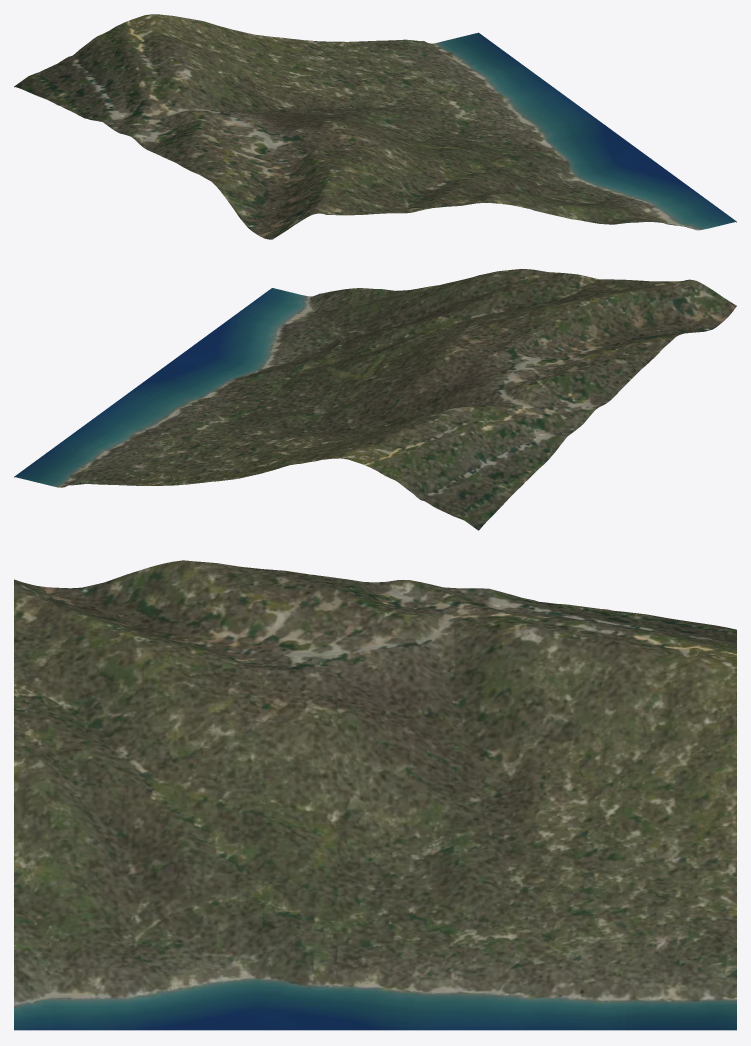
3 renders of one model, top to bottom at view 1: azimuth 30°, elevation 25°; view 2: azimuth 150°, elevation 25°; view 3: azimuth 270°, elevation 25°, orthographic. The views are drawn at different scales.
Bounding box in the file's own units: 500 × 115 × 481.
1 material, 1 textured.
